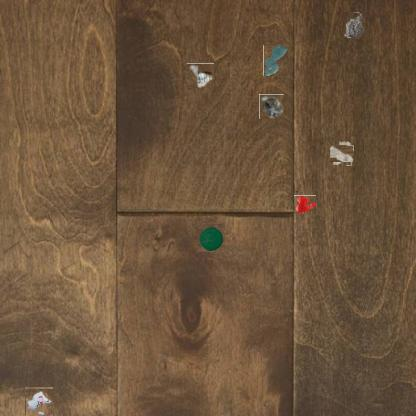dirty: (25, 388, 53, 416), (197, 224, 225, 252), (187, 63, 214, 89), (259, 94, 284, 119), (341, 12, 365, 38), (332, 143, 353, 164)
liquid: (263, 44, 288, 76), (294, 195, 316, 214)
